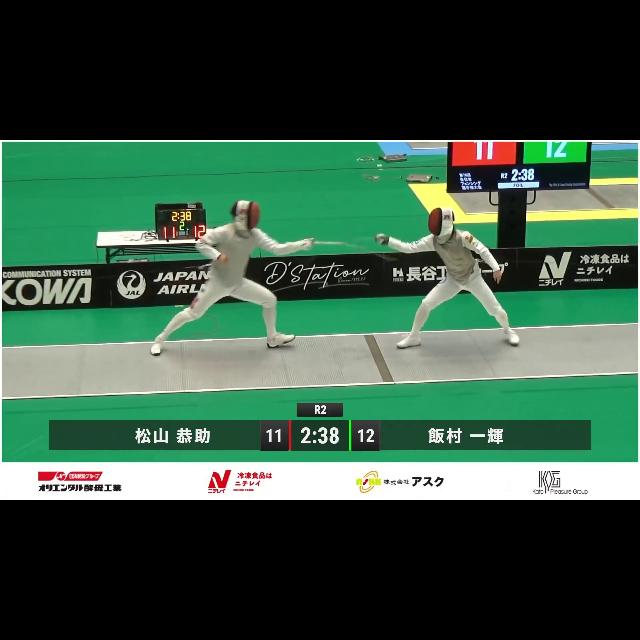blade: (304, 232, 388, 268), (303, 238, 403, 266)
